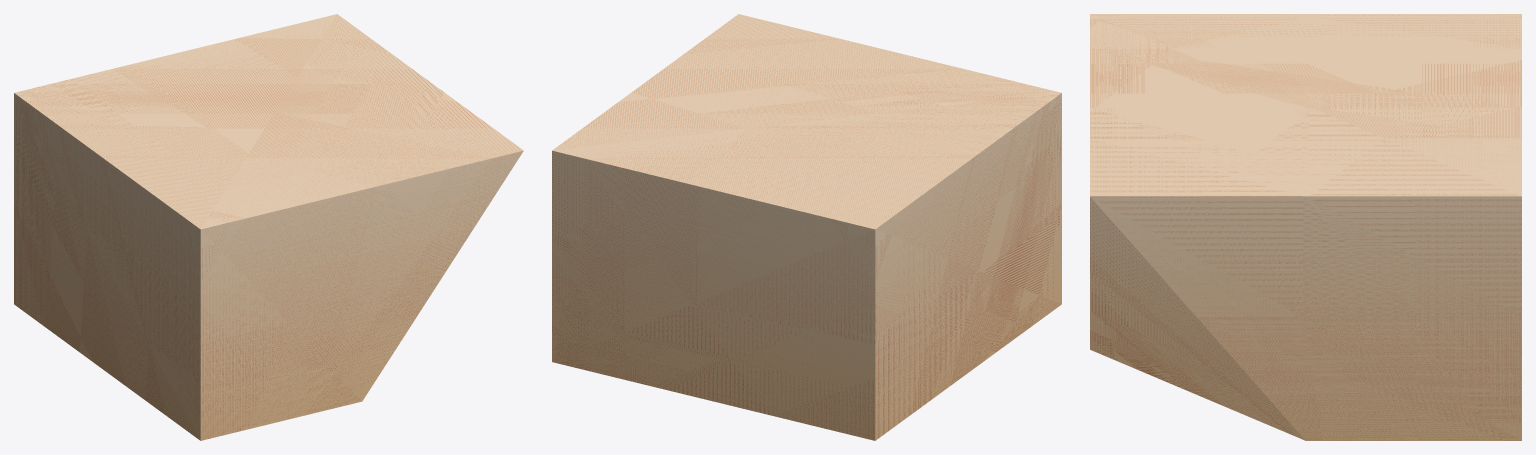
Rendered from building-corner-bottom.glb.
3 renders of one model, left to right at view 1: azimuth 30°, elevation 25°; view 2: azimuth 150°, elevation 25°; view 3: azimuth 270°, elevation 25°, orthographic. The views are drawn at different scales.
Visible parts, largest first — view 1: building-corner-bottom; view 2: building-corner-bottom; view 3: building-corner-bottom.
Part boxes in pixels (<box>): building-corner-bottom: <box>14,14,523,440</box>; building-corner-bottom: <box>552,14,1061,440</box>; building-corner-bottom: <box>1090,14,1521,440</box>.
Size of the model in its own units: 1 by 0.625 by 1.
1 material, 1 textured.
